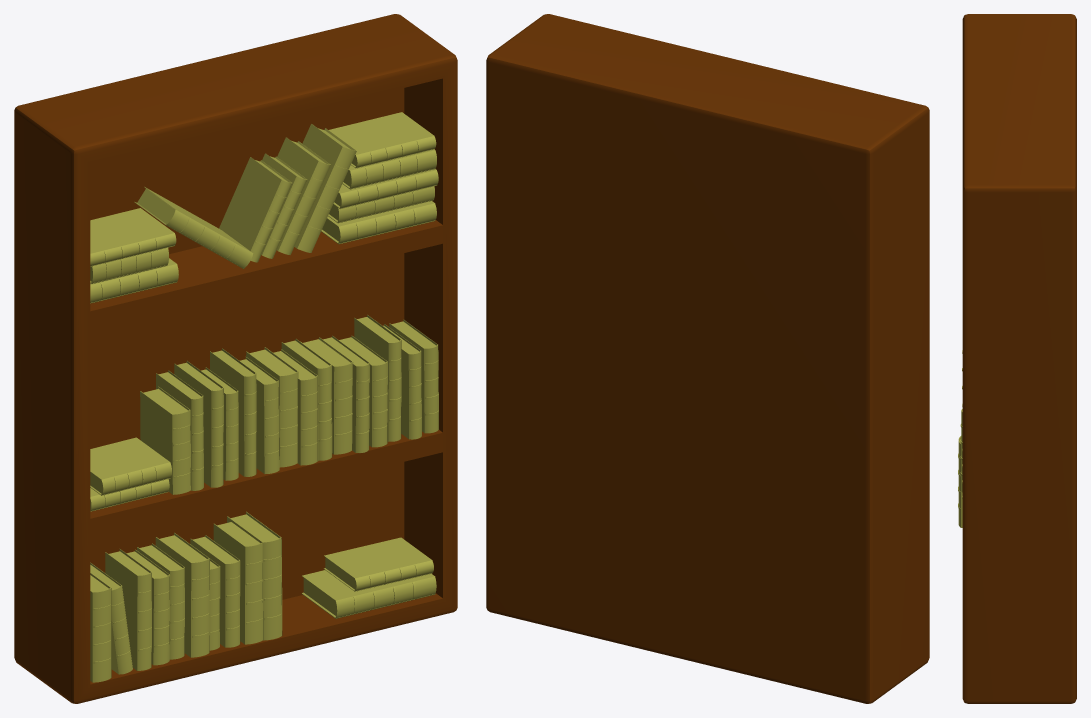
The model's file is Geo_Bookcase_01.fbx.
3 renders of one model, left to right at view 1: azimuth 30°, elevation 25°; view 2: azimuth 150°, elevation 25°; view 3: azimuth 270°, elevation 25°, orthographic. The views are drawn at different scales.
Visible parts, largest first — view 1: geo_BookCase_High_01, geo_bookCaseBook_52, geo_bookCaseBook_59, geo_bookCaseBook_36, geo_bookCaseBook_58, geo_bookCaseBook_55, geo_bookCaseBook_65, geo_bookCaseBook_67, geo_bookCaseBook_31, geo_bookCaseBook_28, geo_bookCaseBook_34, geo_bookCaseBook_61 (+31 smaller); view 2: geo_BookCase_High_01; view 3: geo_BookCase_High_01, geo_bookCaseBook_26.
Part boxes in pixels (x1,y1,x2,y2): geo_BookCase_High_01: [14, 14, 457, 703]; geo_bookCaseBook_52: [219, 157, 292, 262]; geo_bookCaseBook_59: [323, 537, 433, 591]; geo_bookCaseBook_36: [140, 386, 190, 494]; geo_bookCaseBook_58: [301, 570, 436, 618]; geo_bookCaseBook_55: [329, 112, 436, 168]; geo_bookCaseBook_65: [90, 208, 176, 266]; geo_bookCaseBook_67: [90, 437, 171, 495]; geo_bookCaseBook_31: [155, 532, 209, 657]; geo_bookCaseBook_28: [105, 549, 151, 670]; geo_bookCaseBook_34: [213, 519, 262, 644]; geo_bookCaseBook_61: [294, 124, 356, 252]; geo_BookCase_High_01: [486, 14, 929, 703]; geo_BookCase_High_01: [962, 14, 1076, 703]; geo_bookCaseBook_26: [958, 436, 962, 527].
Bounding box in the file's own units: 98 × 135 × 28.06.
